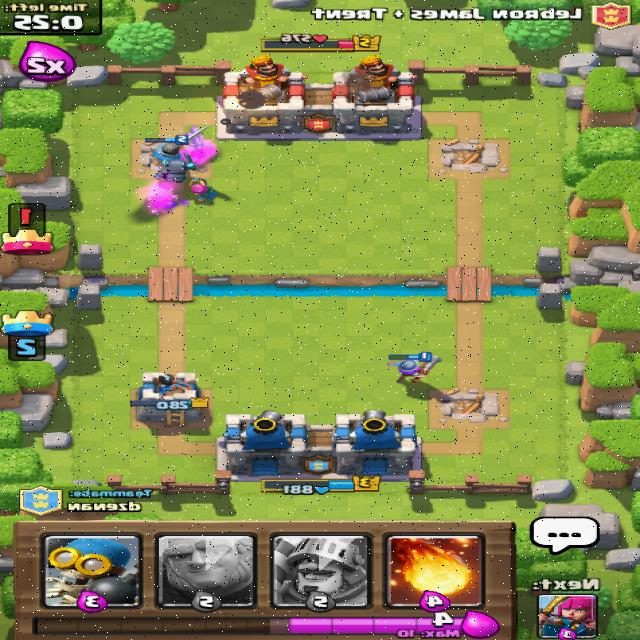Player-Archer: (190, 176, 220, 202)
Player-Knight: (146, 124, 212, 166)
Player-MiniPEKKA: (153, 152, 198, 182)
Player-Musketeer: (387, 351, 444, 383)
